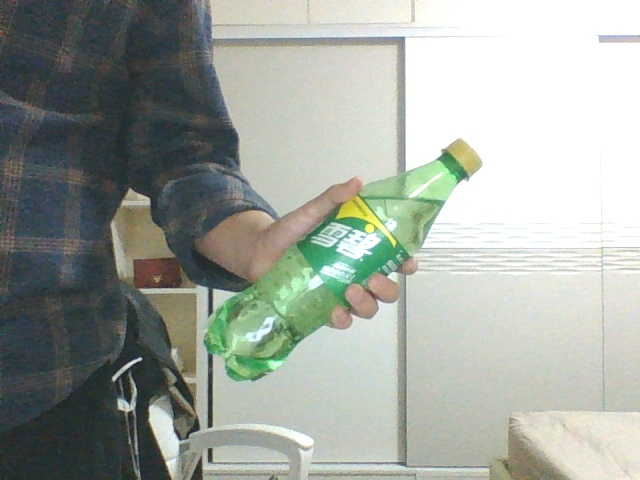Sprite: (204, 140, 484, 378)
